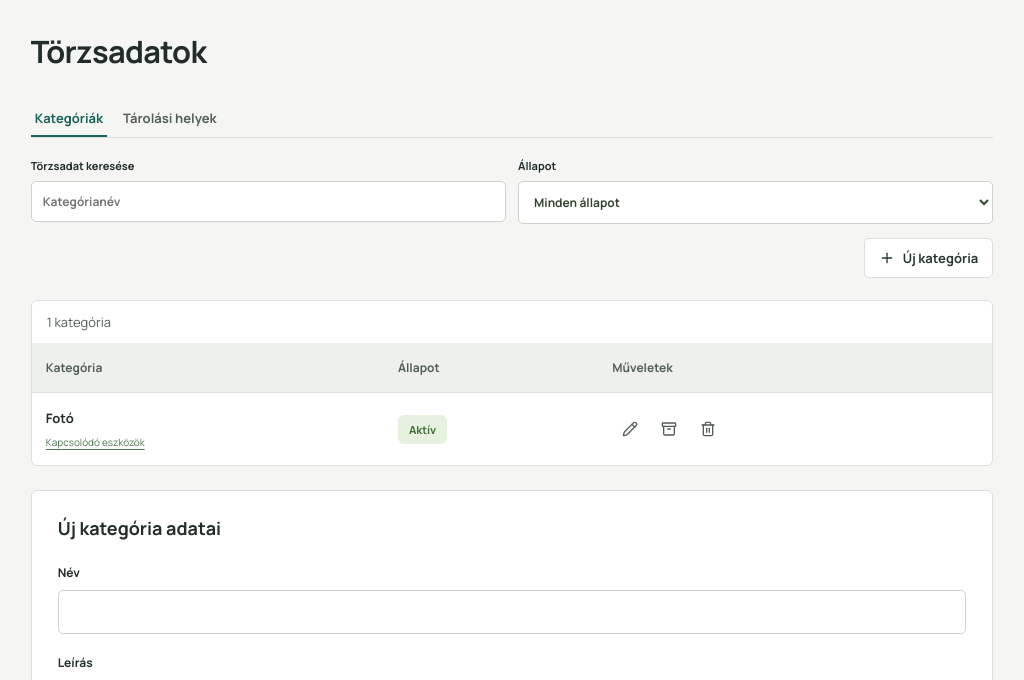
törzsadatok › nem hivatkozott rekord törlése után frissíti a listát
Click the button named "Fotó törlése": (708, 429) [690, 411, 726, 447]
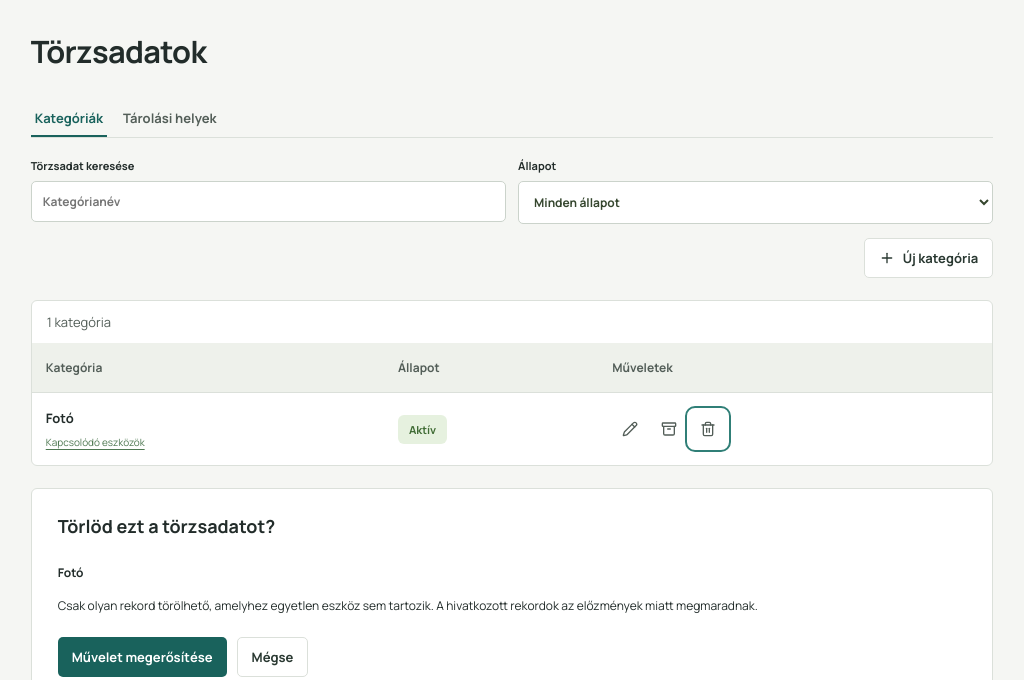
Click the button "Művelet megerősítése": (142, 657) [58, 637, 227, 677]
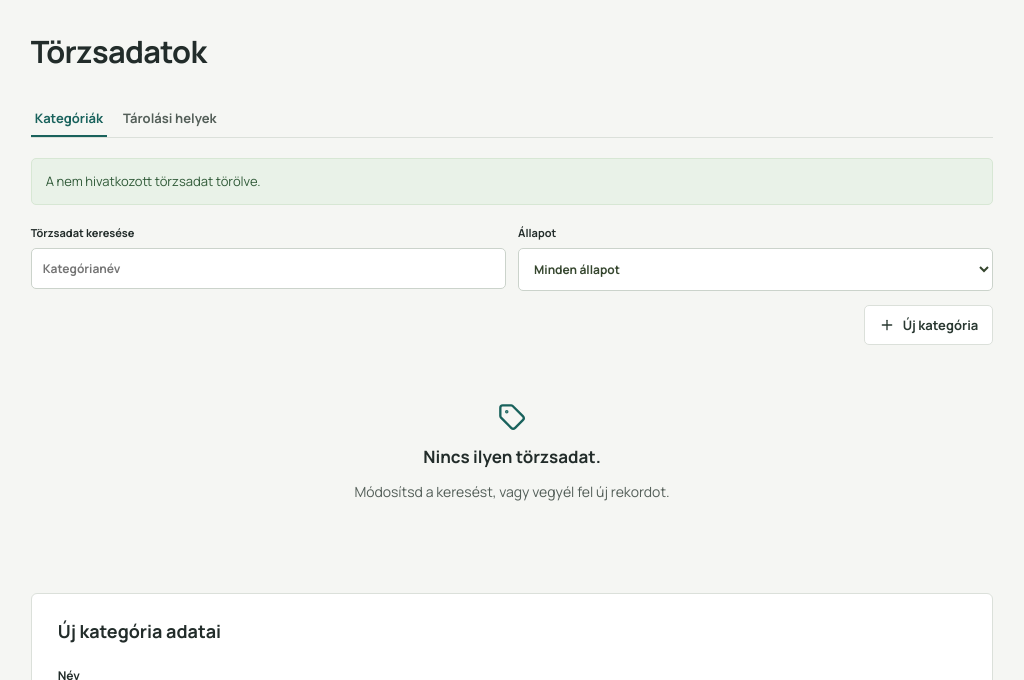
Expected: the heading "Nincs ilyen törzsadat." is shown, [423, 444, 601, 468]
